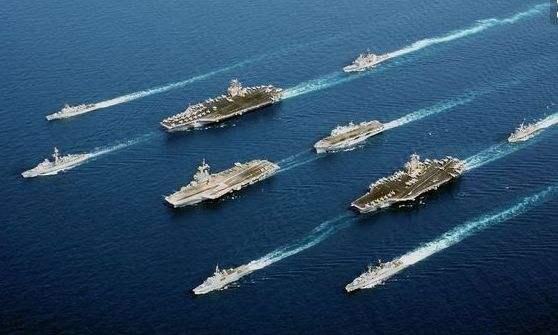warship: (344, 151, 466, 216), (158, 154, 281, 214), (157, 76, 284, 133), (311, 117, 384, 158), (188, 261, 262, 300), (342, 254, 407, 297), (19, 147, 88, 179), (43, 93, 101, 125), (340, 49, 394, 76), (501, 121, 541, 144)
